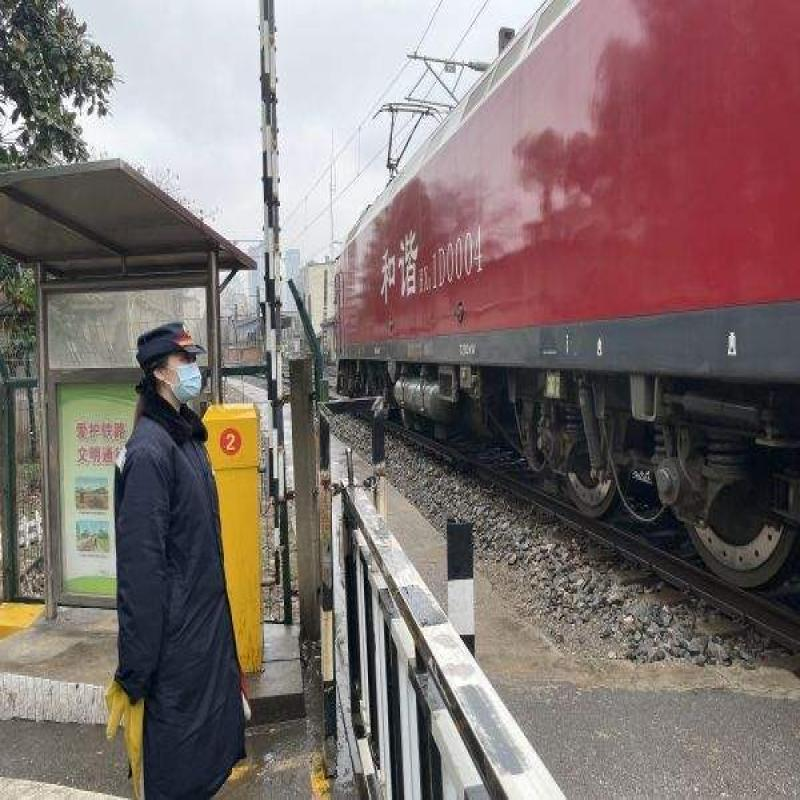train: (318, 31, 765, 584)
